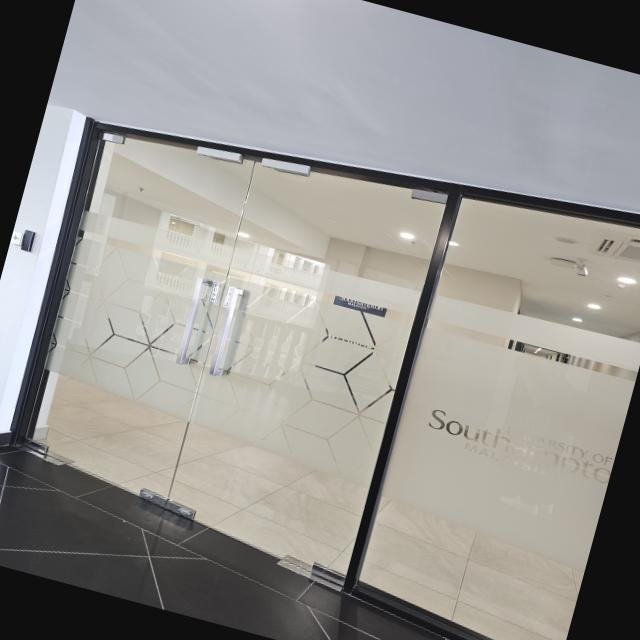door: (0, 100, 454, 591)
